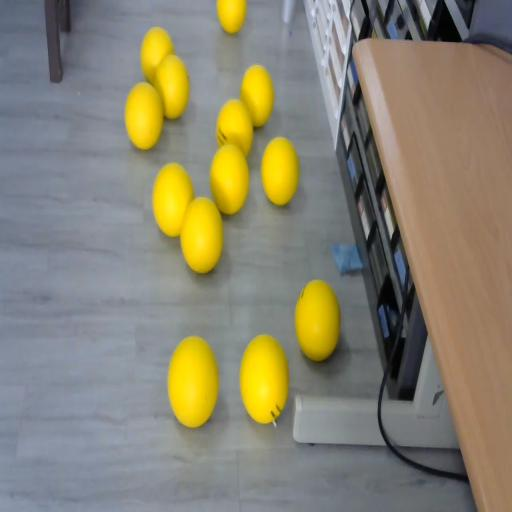FUEL: (166, 334, 220, 428), (239, 332, 290, 424), (294, 278, 340, 361), (180, 196, 224, 274), (208, 142, 251, 216), (152, 162, 194, 237), (260, 136, 300, 205), (124, 82, 164, 150), (240, 64, 274, 127), (140, 26, 174, 86), (217, 0, 247, 33)
